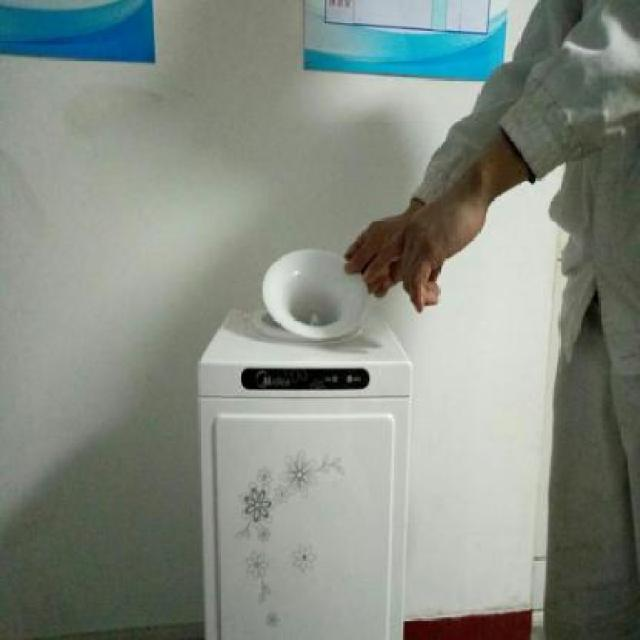cooler: (201, 296, 414, 640)
